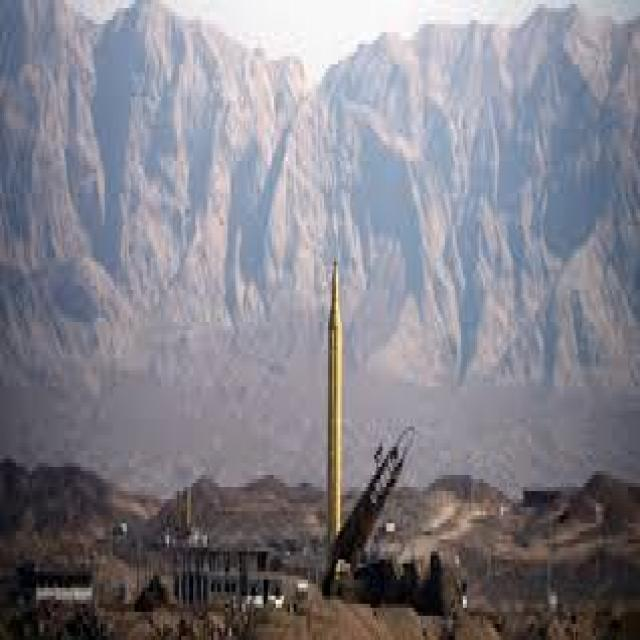Missile: (321, 243, 344, 541)
